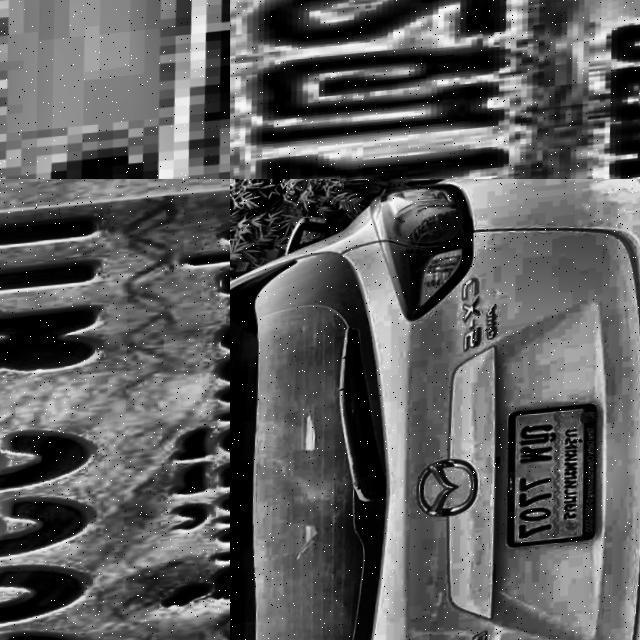license-plate: (0, 179, 230, 640), (230, 0, 640, 179), (0, 0, 230, 179), (499, 405, 610, 558)
